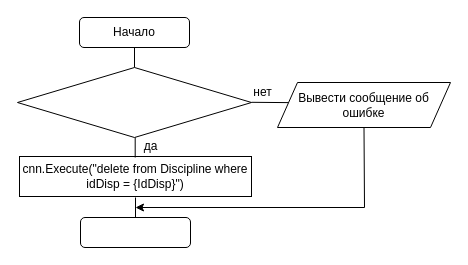
This 468x265 diagram has some shape labels left out. The shapes that lost their labels are listed below. From the top down, each one's box as (x1, y1, x2, y2) in pixels, then its label:
(16, 66, 252, 138): cnn = new SQLConnection()
(80, 216, 190, 248): Конец
